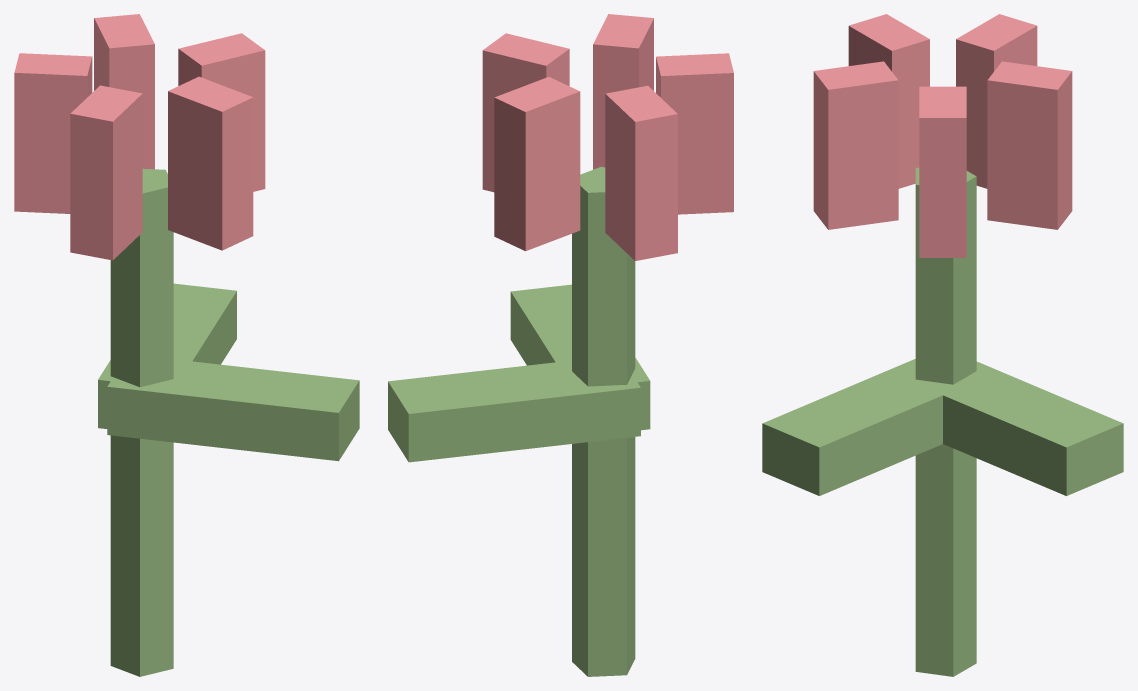
Rendered from flower_tulip.glb.
The picture shows the model from 3 angles, left to right: view 1: azimuth 30°, elevation 25°; view 2: azimuth 150°, elevation 25°; view 3: azimuth 270°, elevation 25°; orthographic projection.
Visible parts, largest first — view 1: Flower_Tulip; view 2: Flower_Tulip; view 3: Flower_Tulip.
Part boxes in pixels (<box>): Flower_Tulip: <box>14,14,359,676</box>; Flower_Tulip: <box>388,14,733,676</box>; Flower_Tulip: <box>762,14,1123,676</box>.
Size of the model in its own units: 0.2219 by 0.4925 by 0.2687.
